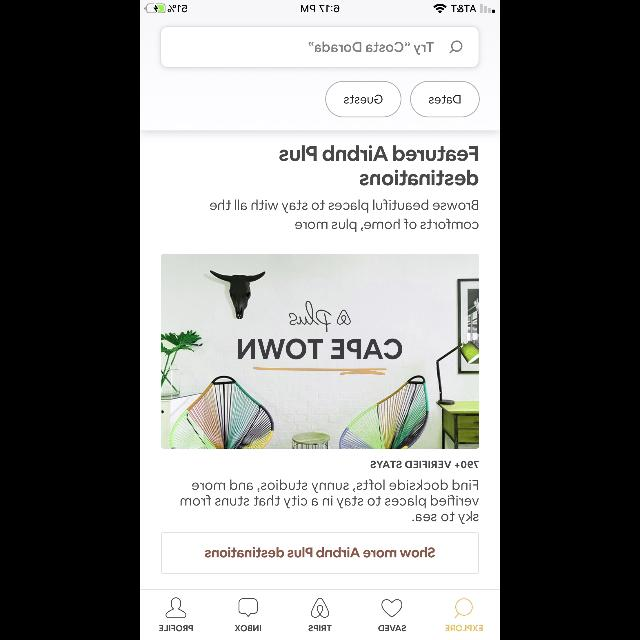icon: (166, 598, 187, 618), (238, 598, 258, 618), (311, 598, 329, 618), (382, 599, 402, 617), (455, 598, 473, 618), (450, 40, 462, 54)
image: (162, 254, 478, 448)
input: (161, 26, 479, 68)
text: (181, 480, 479, 524), (210, 200, 478, 232), (280, 146, 478, 186), (308, 42, 434, 56), (371, 460, 479, 468), (446, 625, 482, 631), (160, 625, 192, 631), (378, 625, 406, 631), (235, 625, 261, 631), (308, 625, 332, 631)
textbutton: (161, 532, 479, 574), (324, 80, 402, 118), (410, 80, 480, 118)
uppertaskbar: (140, 0, 500, 14)
